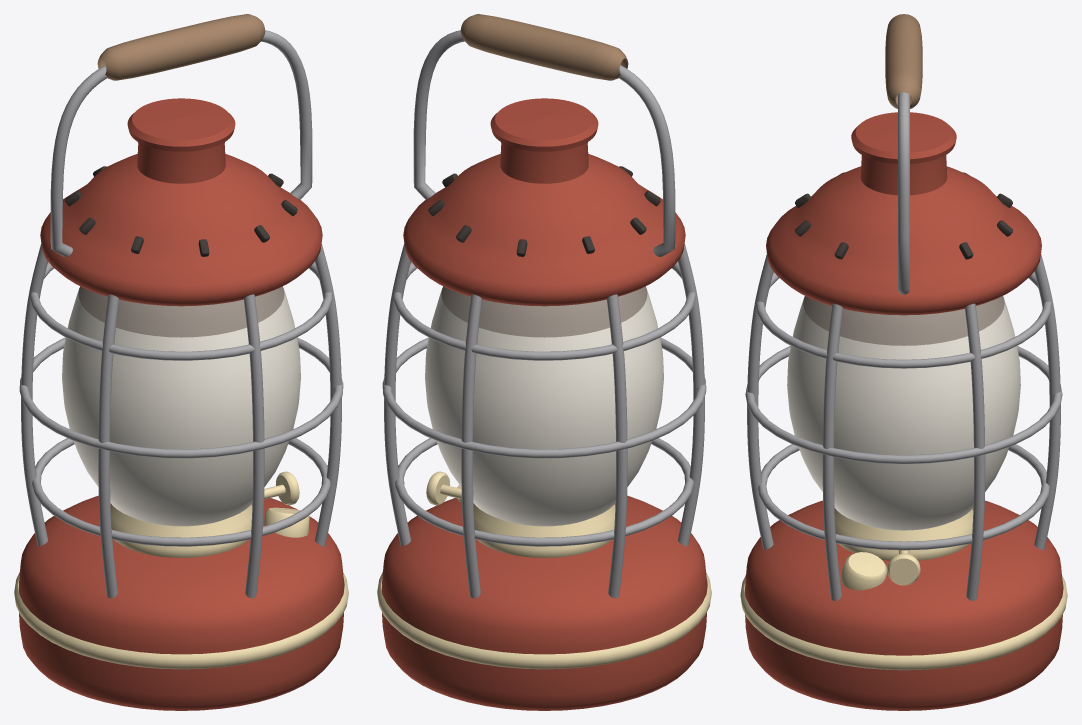
The model's file is lantern_held.glb.
3 renders of one model, left to right at view 1: azimuth 30°, elevation 25°; view 2: azimuth 150°, elevation 25°; view 3: azimuth 270°, elevation 25°, orthographic. The views are drawn at different scales.
Visible parts, largest first — view 1: Body, Grip, Bail; view 2: Body, Grip, Bail; view 3: Body, Grip, Bail.
Part boxes in pixels (x1,y1,x2,y2): Body: [14, 98, 348, 710]; Grip: [97, 14, 265, 80]; Bail: [50, 30, 312, 256]; Body: [377, 98, 711, 710]; Grip: [460, 14, 628, 80]; Bail: [413, 30, 675, 256]; Body: [740, 112, 1067, 710]; Grip: [885, 14, 922, 108]; Bail: [898, 92, 909, 294].
Size of the model in its own units: 0.1624 by 0.3313 by 0.1624.
